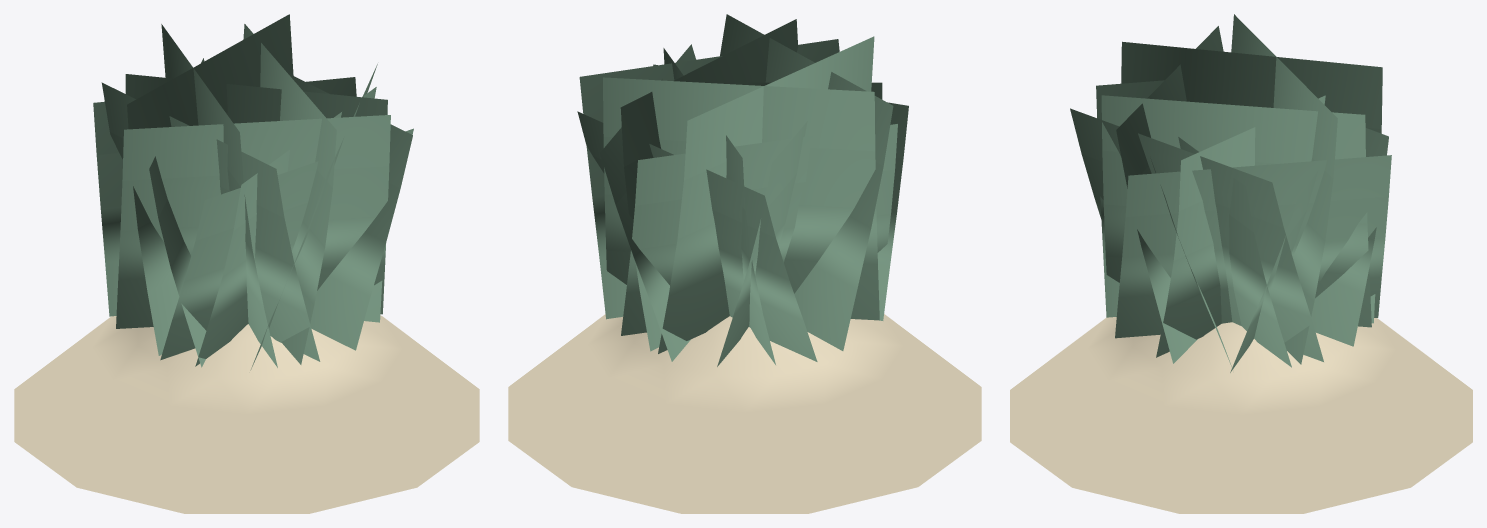
File: beach_dunegrass.glb
3 views of the same model, side by side, from view 1: azimuth 30°, elevation 25°; view 2: azimuth 150°, elevation 25°; view 3: azimuth 270°, elevation 25° (orthographic). The views are drawn at different scales.
Visible parts, largest first — view 1: beach_dunegrass_lod0; view 2: beach_dunegrass_lod0; view 3: beach_dunegrass_lod0.
Part boxes in pixels (left/top/right/bottom): beach_dunegrass_lod0: left=14, top=14, right=479, bottom=513; beach_dunegrass_lod0: left=508, top=14, right=981, bottom=513; beach_dunegrass_lod0: left=1010, top=14, right=1472, bottom=513.
Size of what is drawn, in the model's own units: 1.64 by 1.34 by 1.64.
